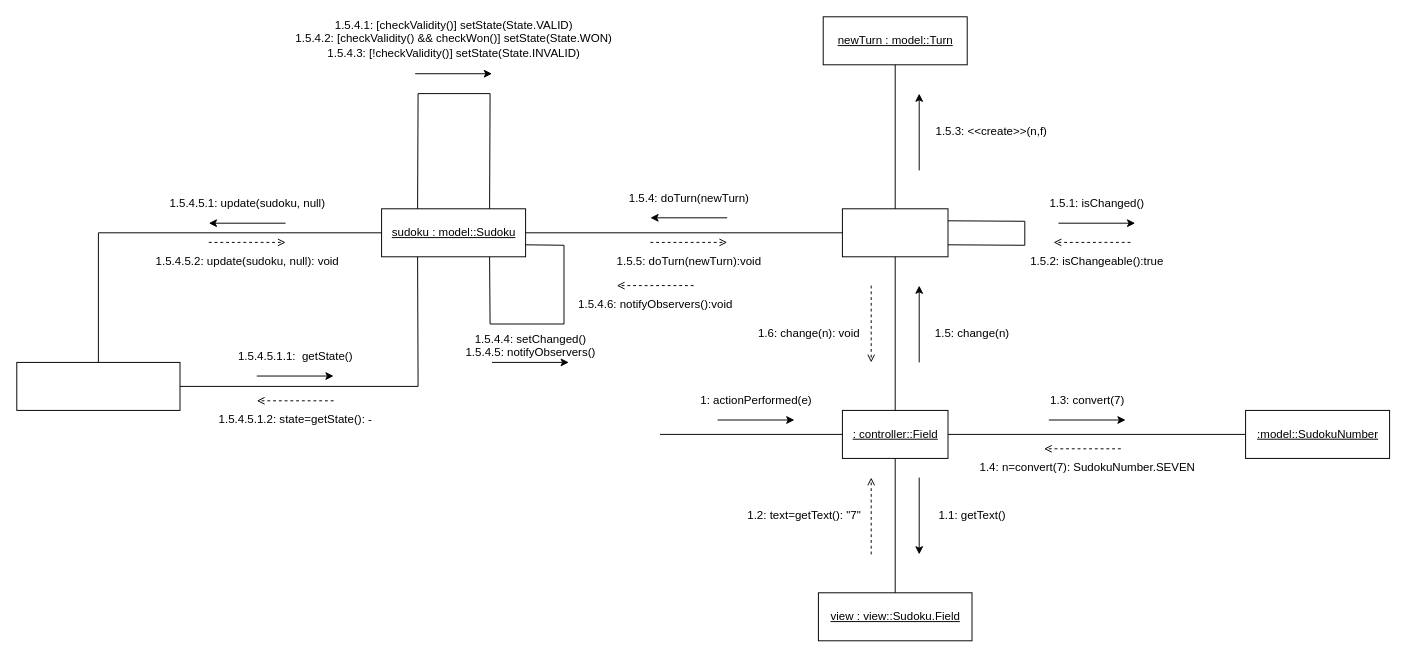
Image size: 1406x658. Some labels were removed from this diagram. The shapes that lost their labels are listed below. From the top down, each one's box as (x1, y1, x2, y2) in pixels, then its label:
(841, 208, 948, 257): f : model::Field
(16, 361, 180, 410): sudokuView : view::Sudoku
